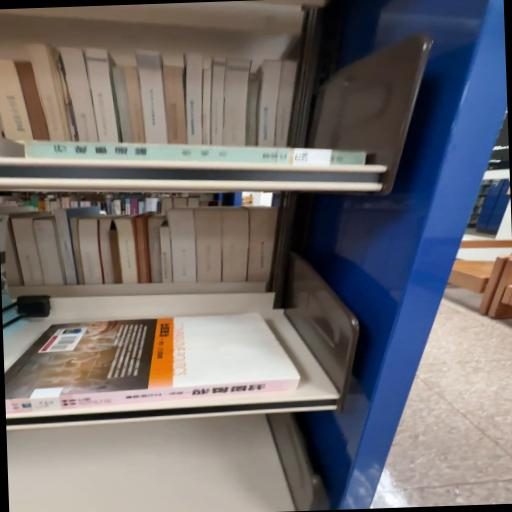flat: (4, 312, 299, 414), (24, 141, 369, 166)
